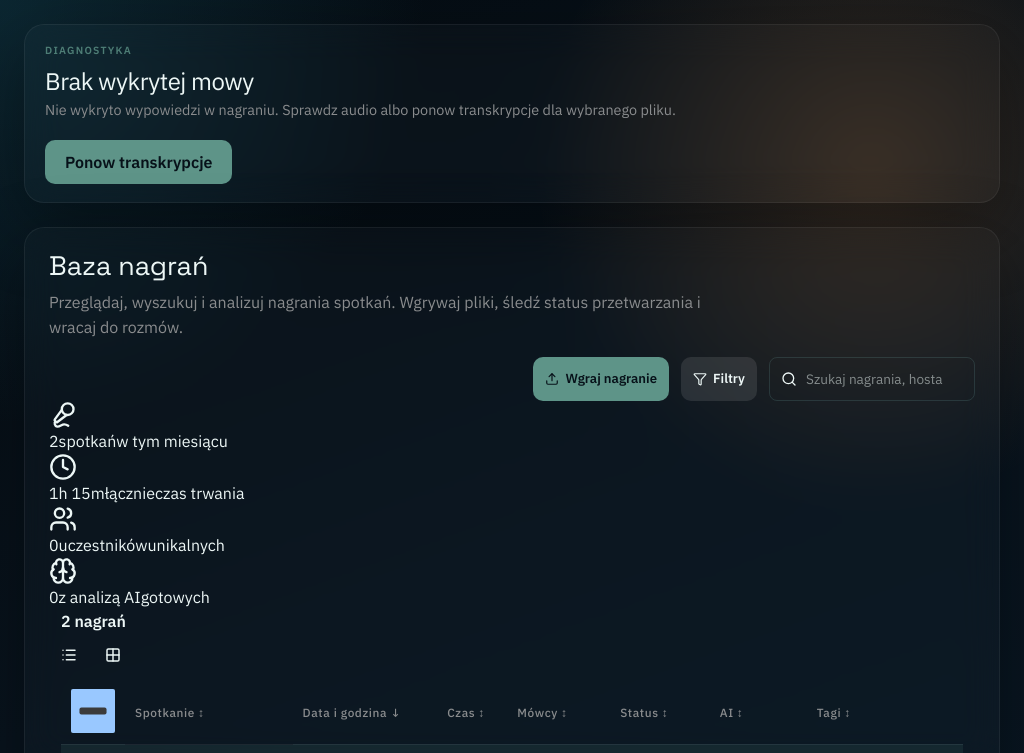
Scenario: RecordingsTab › Regression: retry action shows loading state for empty transcript
What coordinates should you click on to do the following:
click the button "Ponow transkrypcje"
I would click on:
 (139, 162)
Its box is [45,140,232,184].
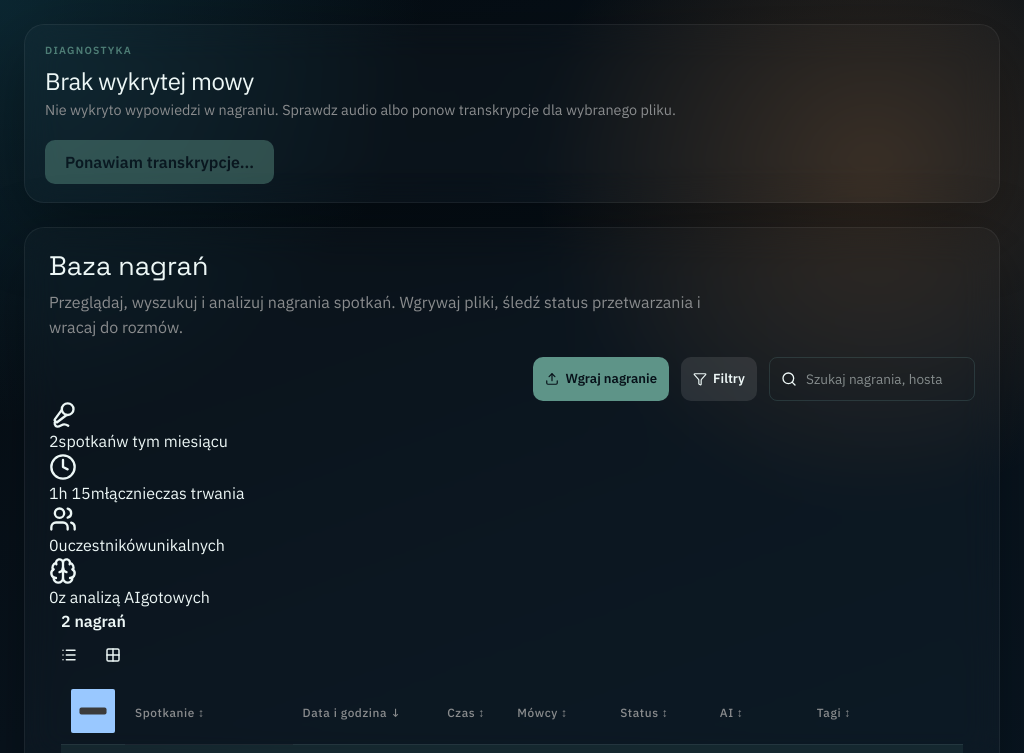
Now the button "Ponawiam transkrypcje..." is disabled, box [45,140,274,184]
